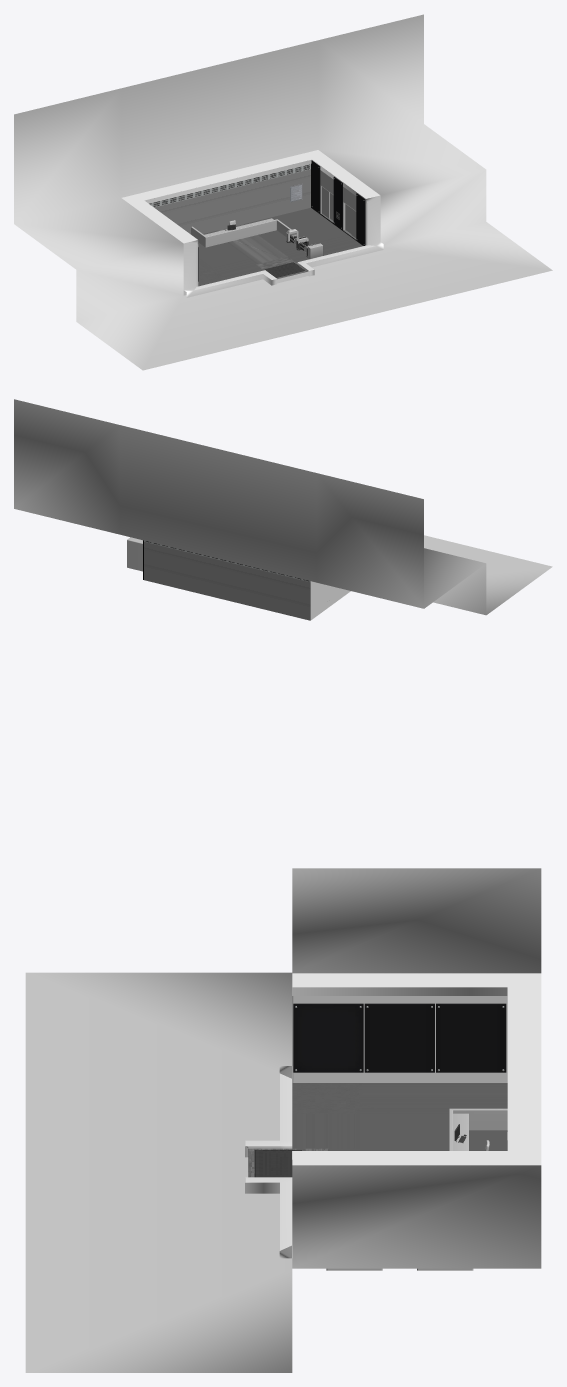
File: a_com_building_a01.gltf
3 views of the same model, one above another, from view 1: azimuth 30°, elevation 25°; view 2: azimuth 150°, elevation 25°; view 3: azimuth 270°, elevation 25° (orthographic). The views are drawn at different scales.
Parts seen in each view (by area): view 1: a_com_building_a01_outsideblank01_mesh_shape:a_com_building_, um_a_com_building_a01_model_a_com_building_a01_modelShape:a_ (×10), nomerge_outside_edge_shape:mat_texture_edge02, a_com_building_a01_outsideroof01_mesh_shape:a_com_building_a; view 2: a_com_building_a01_outsideblank01_mesh_shape:a_com_building_, um_a_com_building_a01_model_a_com_building_a01_modelShape:a_ (×4); view 3: a_com_building_a01_outsideblank01_mesh_shape:a_com_building_, um_a_com_building_a01_model_a_com_building_a01_modelShape:a_ (×7), a_com_building_a01_outsideroof01_mesh_shape:a_com_building_a, nomerge_outside_edge_shape:mat_texture_edge02.
Part boxes in pixels (x1,y1,x2,y2): a_com_building_a01_outsideblank01_mesh_shape:a_com_building_: (14, 14, 552, 370); um_a_com_building_a01_model_a_com_building_a01_modelShape:a_ (×10): (149, 160, 375, 295); nomerge_outside_edge_shape:mat_texture_edge02: (144, 159, 383, 297); a_com_building_a01_outsideroof01_mesh_shape:a_com_building_a: (122, 150, 379, 243); a_com_building_a01_outsideblank01_mesh_shape:a_com_building_: (14, 399, 552, 615); um_a_com_building_a01_model_a_com_building_a01_modelShape:a_ (×4): (127, 537, 350, 620); a_com_building_a01_outsideblank01_mesh_shape:a_com_building_: (25, 868, 541, 1372); um_a_com_building_a01_model_a_com_building_a01_modelShape:a_ (×7): (245, 987, 507, 1257); a_com_building_a01_outsideroof01_mesh_shape:a_com_building_a: (292, 973, 541, 1165); nomerge_outside_edge_shape:mat_texture_edge02: (245, 987, 507, 1258).
Size of the model in its own units: 38.42 by 14.48 by 20.91.
21 materials, 18 textured.
